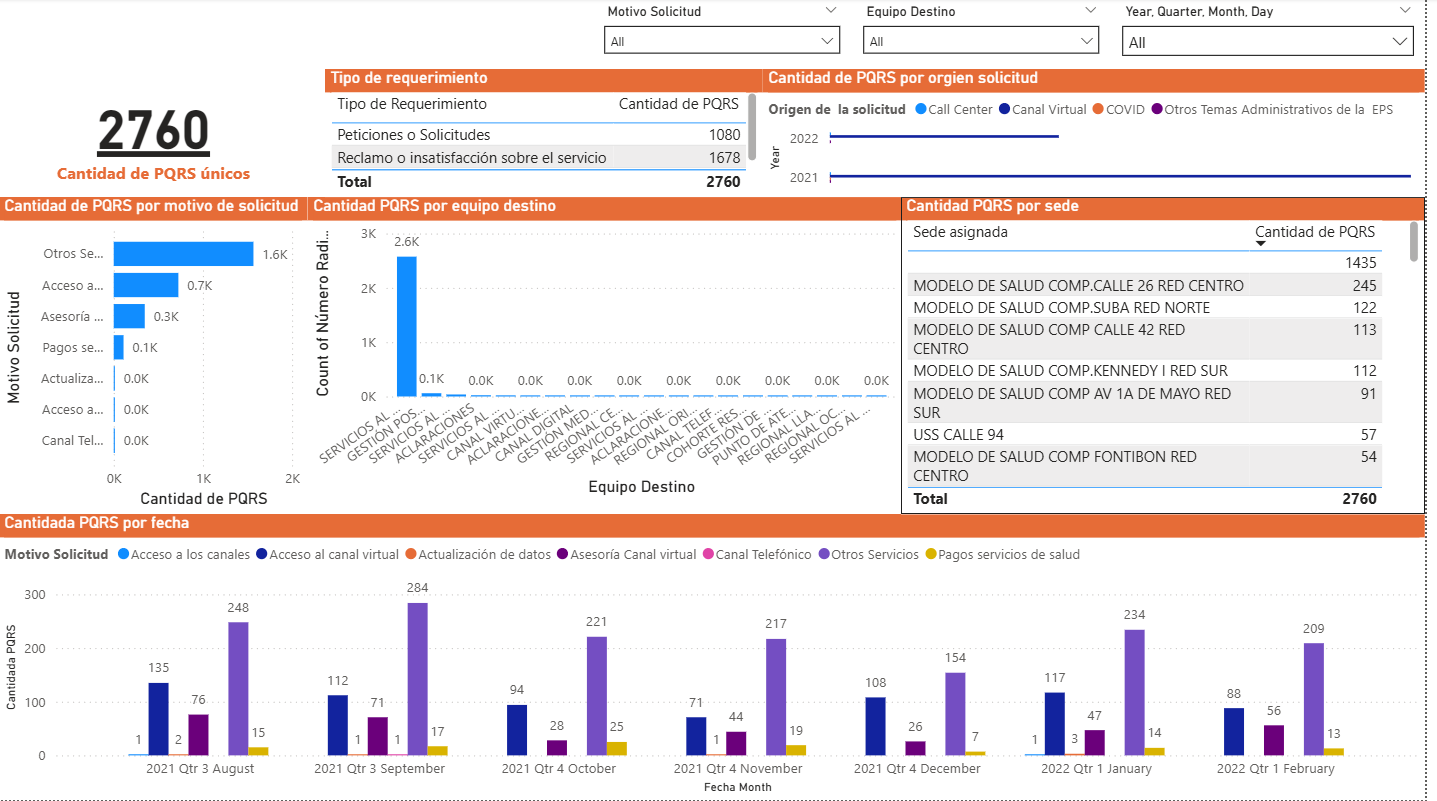

The dashboard page shown, as its layout file describes it:
{"tool":"powerbi","page":{"name":"Comportamiento PQRS","canvas":[1280,720],"ordinal":0},"visuals":[{"type":"image","box":[0,0,120.4,67.3],"z":0},{"type":"slicer","fields":{"Values":["dataframe.Equipo Destino"]},"box":[765.5,0,232.3,65.5],"z":1000},{"type":"slicer","fields":{"Values":["Calendario.Fecha.Variación.Date Hierarchy.Year","Calendario.Fecha.Variación.Date Hierarchy.Quarter","Calendario.Fecha.Variación.Date Hierarchy.Month","Calendario.Fecha.Variación.Date Hierarchy.Day"]},"box":[997.9,0,282.1,66],"z":2000},{"type":"clusteredColumnChart","title":"Cantidad PQRS por equipo destino","fields":{"Category":["dataframe.Equipo Destino"],"Y":["Count(dataframe.Número Radicado)"]},"box":[277,178.6,533.2,273.1],"z":3000},{"type":"clusteredBarChart","title":"Cantidad de PQRS por motivo de solicitud","fields":{"Category":["dataframe.Motivo Solicitud"],"Y":["Count(dataframe.Número Radicado)"]},"box":[0,178.6,277,283.4],"z":4000},{"type":"slicer","fields":{"Values":["dataframe.Motivo Solicitud"]},"box":[533.2,0,231.7,66],"z":5000},{"type":"clusteredColumnChart","title":"Cantidada PQRS por fecha","fields":{"Category":["dataframe.Fecha.Variación.Date Hierarchy.Year","dataframe.Fecha.Variación.Date Hierarchy.Quarter","dataframe.Fecha.Variación.Date Hierarchy.Month","dataframe.Fecha.Variación.Date Hierarchy.Day"],"Series":["dataframe.Motivo Solicitud"],"Y":["Count(dataframe.Número Radicado)"]},"box":[0,463,1280,255.7],"z":6000},{"type":"tableEx","title":"Cantidad PQRS por sede","fields":{"Values":["dataframe.Sede asignada","dataframe.Número Radicado"]},"box":[810.2,178.6,469.8,284.7],"z":7000},{"type":"tableEx","title":"Tipo de requerimiento","fields":{"Values":["dataframe.Tipo de Requerimiento","dataframe.Número Radicado"]},"box":[292.5,63.4,393.4,115.2],"z":8000},{"type":"clusteredBarChart","title":"Cantidad de PQRS por orgien solicitud","fields":{"Y":["Count(dataframe.Número Radicado)"],"Series":["dataframe.Origen de  la solicitud"],"Category":["dataframe.Fecha Radicación de caso.Variación.Date Hierarchy.Year","dataframe.Fecha Radicación de caso.Variación.Date Hierarchy.Quarter","dataframe.Fecha Radicación de caso.Variación.Date Hierarchy.Month","dataframe.Fecha Radicación de caso.Variación.Date Hierarchy.Day"]},"box":[685.9,63.4,594.1,115.2],"z":9000},{"type":"card","fields":{"Values":["Count(dataframe.Número Radicado)"]},"box":[0,67.5,277.4,111],"z":10000}]}

Visuals, with their boxes in screenshot pixels (x1, y1, x2, y2), scaled from the page's 1280x720 canvas onto the 1437x801 screenshot:
image: bbox=(0, 0, 135, 75)
slicer - dataframe.Equipo Destino: bbox=(859, 0, 1120, 73)
slicer - Calendario.Fecha.Variación.Date Hierarchy.Year x Calendario.Fecha.Variación.Date Hierarchy.Quarter: bbox=(1120, 0, 1436, 73)
"Cantidad PQRS por equipo destino" clusteredColumnChart: bbox=(311, 199, 910, 503)
"Cantidad de PQRS por motivo de solicitud" clusteredBarChart: bbox=(0, 199, 311, 514)
slicer - dataframe.Motivo Solicitud: bbox=(599, 0, 859, 73)
"Cantidada PQRS por fecha" clusteredColumnChart: bbox=(0, 515, 1436, 800)
"Cantidad PQRS por sede" tableEx: bbox=(910, 199, 1436, 515)
"Tipo de requerimiento" tableEx: bbox=(328, 71, 770, 199)
"Cantidad de PQRS por orgien solicitud" clusteredBarChart: bbox=(770, 71, 1436, 199)
card - Count(dataframe.Número Radicado): bbox=(0, 75, 311, 199)
